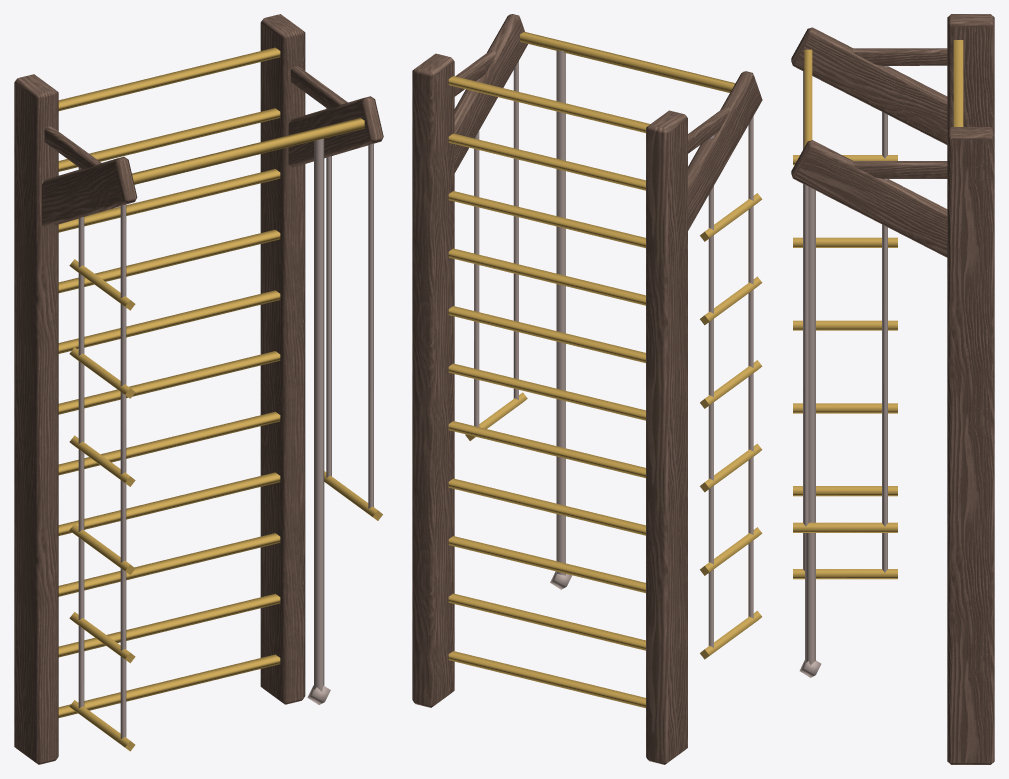
Rendered from training_016.fbx.
3 views of the same model, side by side, from view 1: azimuth 30°, elevation 25°; view 2: azimuth 150°, elevation 25°; view 3: azimuth 270°, elevation 25° (orthographic). The views are drawn at different scales.
Visible parts, largest first — view 1: training_016; view 2: training_016; view 3: training_016.
Part boxes in pixels (bbox=[...]): training_016: bbox=[14, 14, 383, 764]; training_016: bbox=[412, 14, 762, 764]; training_016: bbox=[791, 14, 994, 764].
Bounding box in the file's own units: 92.27 × 64.07 × 219.
